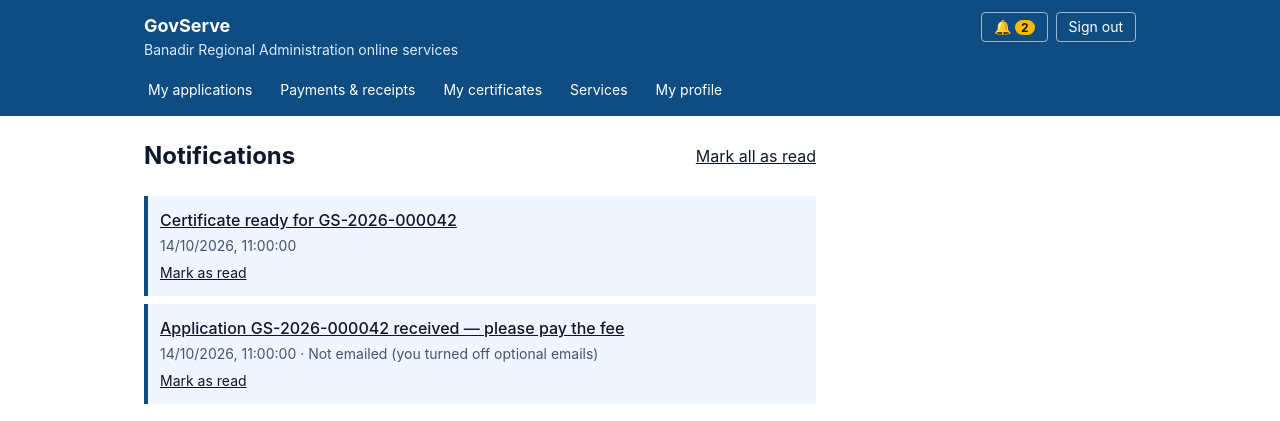
Test case: notifications › should show the unread badge and list notifications, then mark all read
Check: the element with test id "unread-badge" reads "2", box 1021,20 -> 1029,35
Check: the list with test id "notifications" shows "Not emailed (you turned off optional emails)", box 296,345 -> 598,362
Step 1. Click the button "Mark all as read" → click(756, 156), box 696,144 -> 816,168
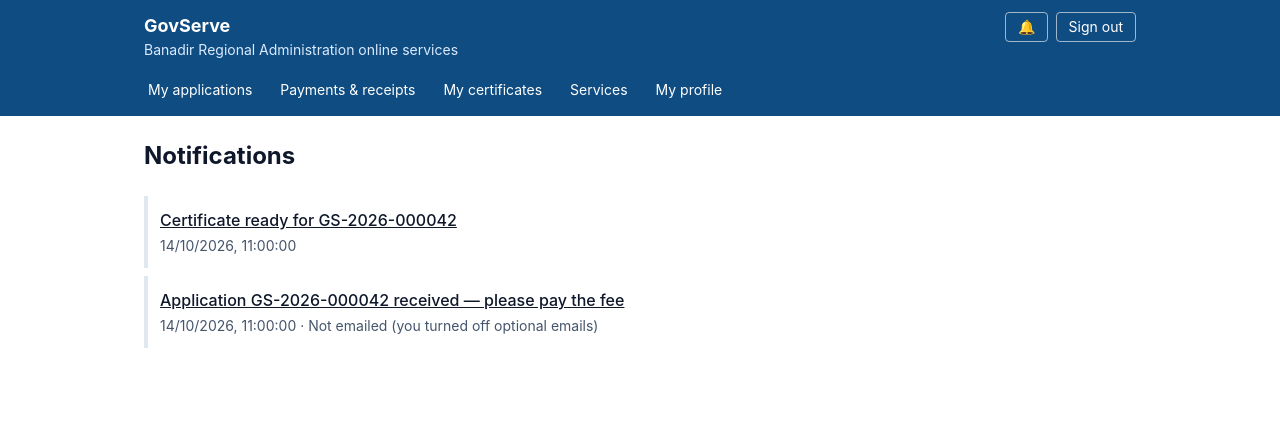
Check: the heading "Notifications" is shown, box 144,140 -> 295,172
Check: the element with test id "unread-badge" is gone
